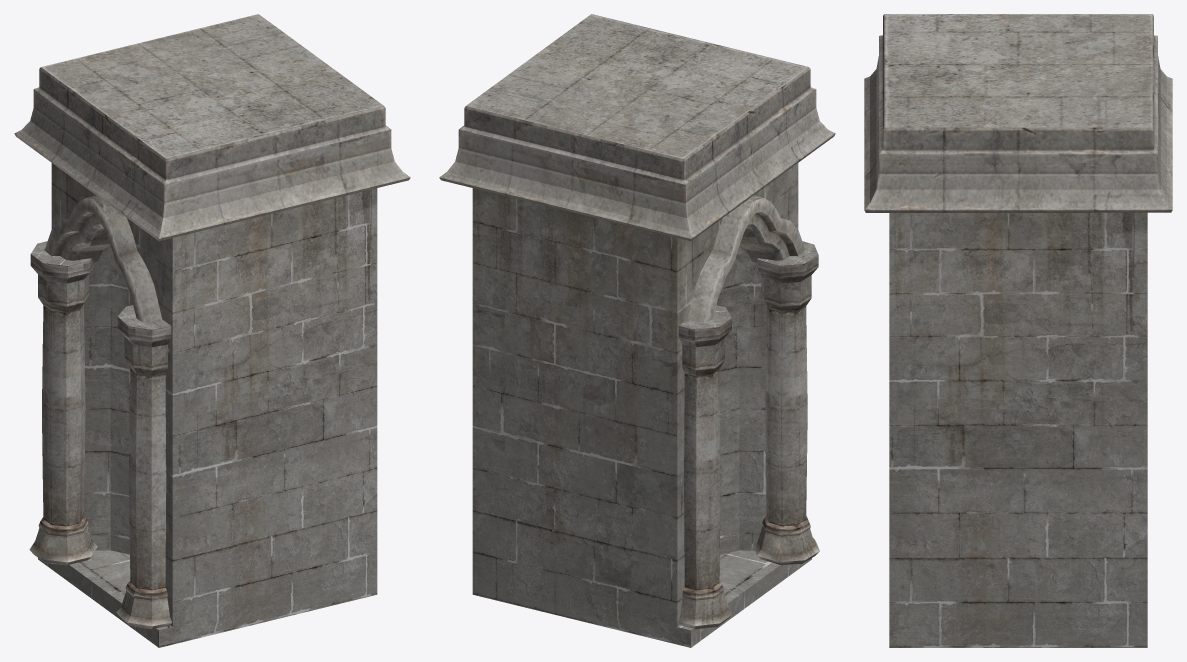
File: bg_lut_lucastle_churchtower01b_sm_ksh.FBX
3 views of the same model, side by side, from view 1: azimuth 30°, elevation 25°; view 2: azimuth 150°, elevation 25°; view 3: azimuth 270°, elevation 25° (orthographic). The views are drawn at different scales.
Visible parts, largest first — view 1: bg_lut_lucastle_churchtower01b_sm_ksh; view 2: bg_lut_lucastle_churchtower01b_sm_ksh; view 3: bg_lut_lucastle_churchtower01b_sm_ksh.
Part boxes in pixels (box(x1,y1,x2,y2)): bg_lut_lucastle_churchtower01b_sm_ksh: box(14, 14, 410, 647); bg_lut_lucastle_churchtower01b_sm_ksh: box(439, 14, 835, 647); bg_lut_lucastle_churchtower01b_sm_ksh: box(864, 14, 1172, 647).
Bounding box in the file's own units: 167 × 300 × 160.
